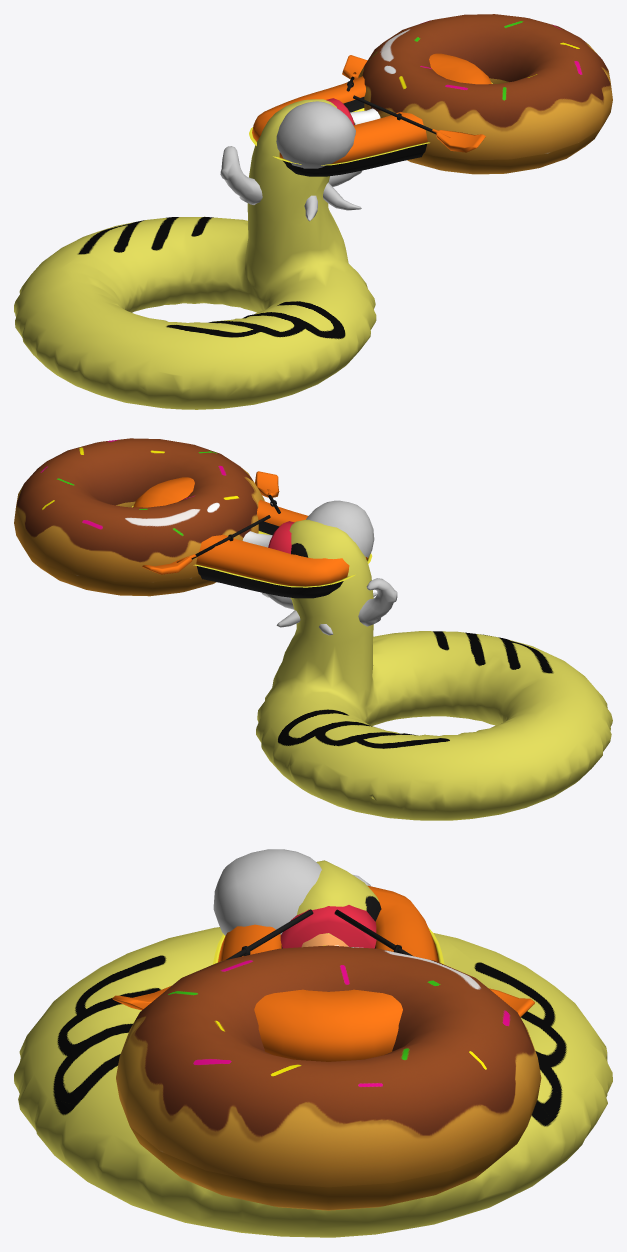
Rendered from fixed_pivots_2.fbx.
3 renders of one model, top to bottom at view 1: azimuth 30°, elevation 25°; view 2: azimuth 150°, elevation 25°; view 3: azimuth 270°, elevation 25°, orthographic. The views are drawn at different scales.
Parts seen in each view (by area): view 1: duck, donut, boat, octopus, Cylinder.001; view 2: duck, donut, boat, octopus, dumbbell, Cylinder.002, Cylinder.001; view 3: donut, duck, boat, octopus, dumbbell, Cylinder.001, Cylinder.002.
Part boxes in pixels (<box>): duck: <box>14,99,376,409</box>; donut: <box>358,14,612,174</box>; boat: <box>249,53,492,176</box>; octopus: <box>220,101,362,221</box>; Cylinder.001: <box>353,95,485,152</box>; duck: <box>256,519,612,820</box>; donut: <box>14,438,264,596</box>; boat: <box>132,477,372,598</box>; octopus: <box>262,500,397,635</box>; dumbbell: <box>242,521,294,553</box>; Cylinder.002: <box>142,515,270,574</box>; Cylinder.001: <box>255,471,280,513</box>; donut: <box>116,945,541,1210</box>; duck: <box>14,860,612,1237</box>; boat: <box>213,885,444,1061</box>; octopus: <box>213,849,370,935</box>; dumbbell: <box>280,905,376,948</box>; Cylinder.001: <box>112,909,313,1010</box>; Cylinder.002: <box>334,909,534,1017</box>.
Size of the model in its own units: 348 by 194 by 135.
